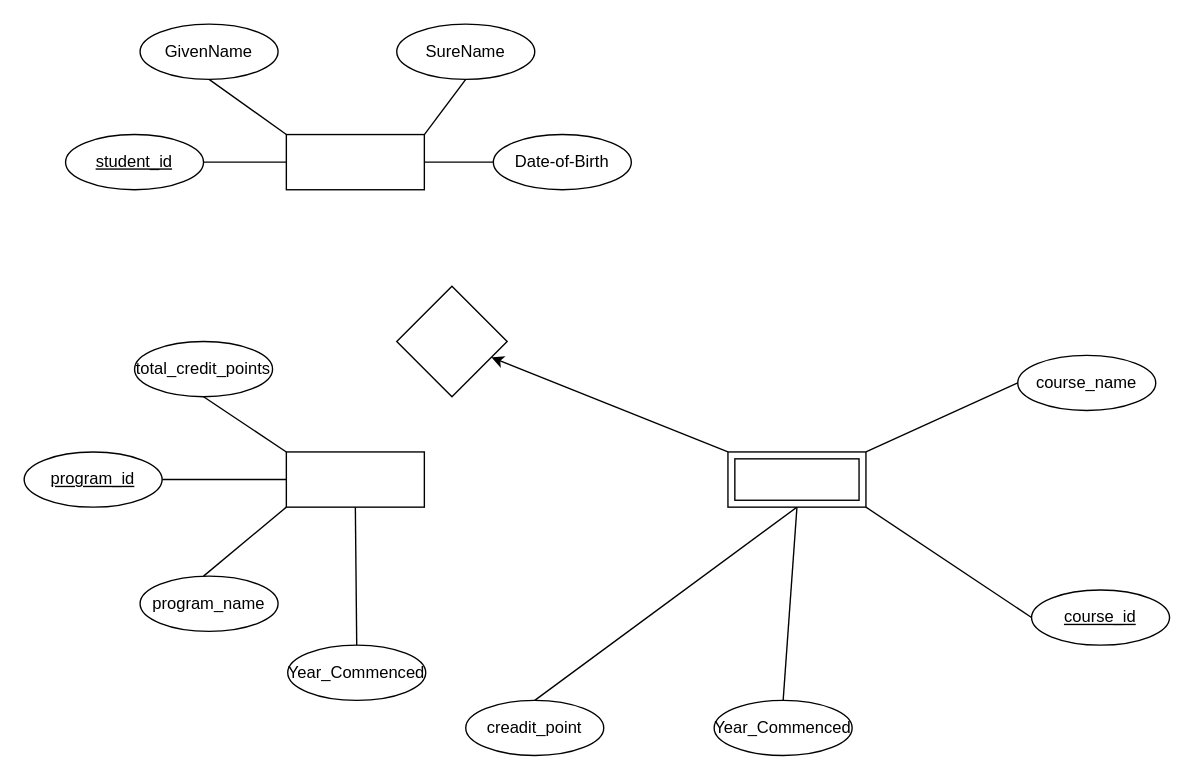
The diagram is 1194 pixels wide and 780 high, and some of its shapes have lost their labels. Here are the shapes that lost their labels. From the top down, the centre of each, then its label:
At (x=354, y=161): "Student".
At (x=354, y=479): "Program".
At (x=796, y=479): "Course".
